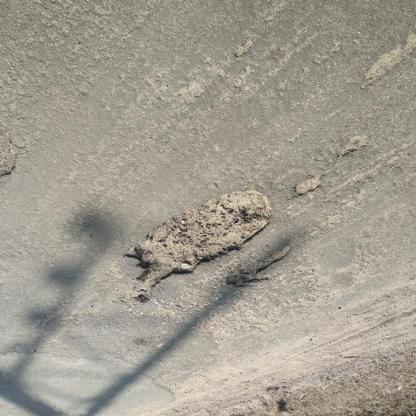pothole: (124, 188, 273, 307), (358, 34, 416, 94), (225, 244, 295, 291), (290, 176, 327, 201), (2, 129, 20, 180)
